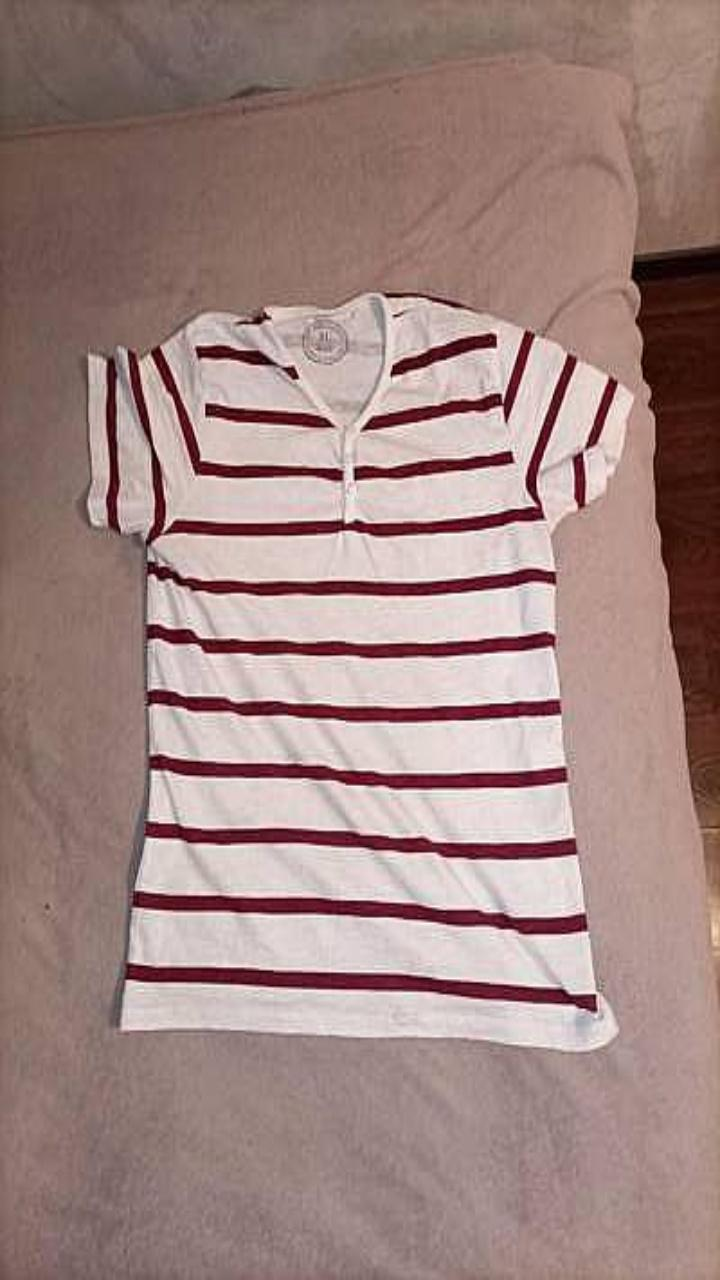T-Shirt: (87, 292, 633, 1050)
